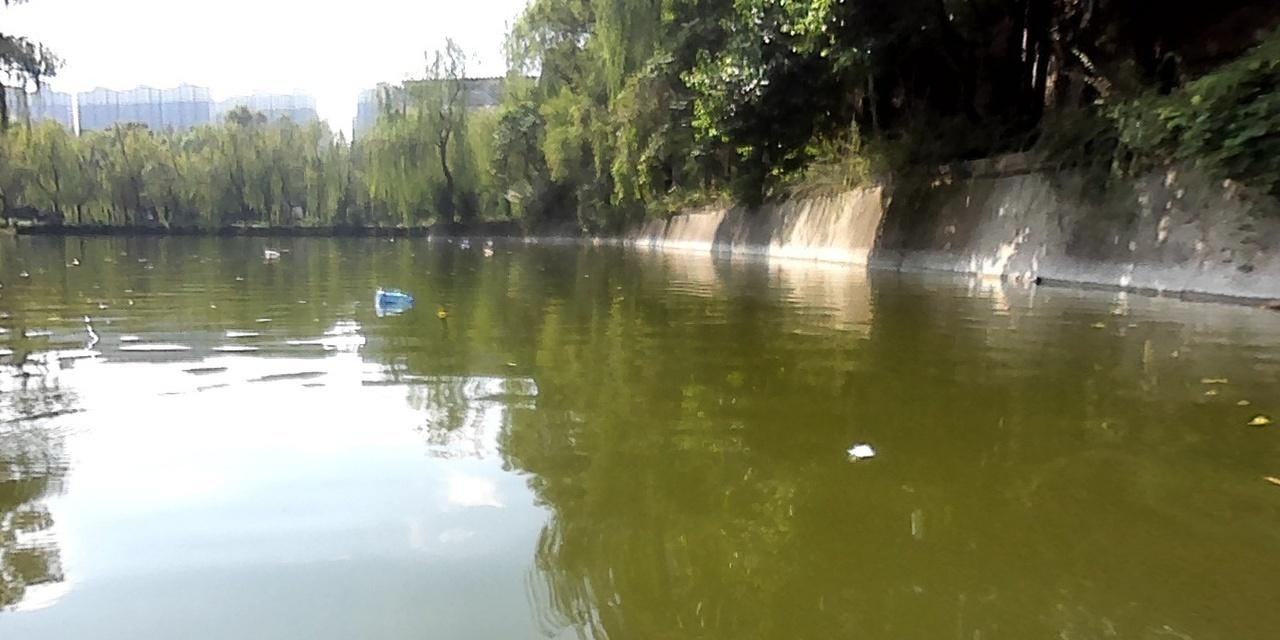bottle: (373, 286, 415, 310), (262, 247, 280, 260)
